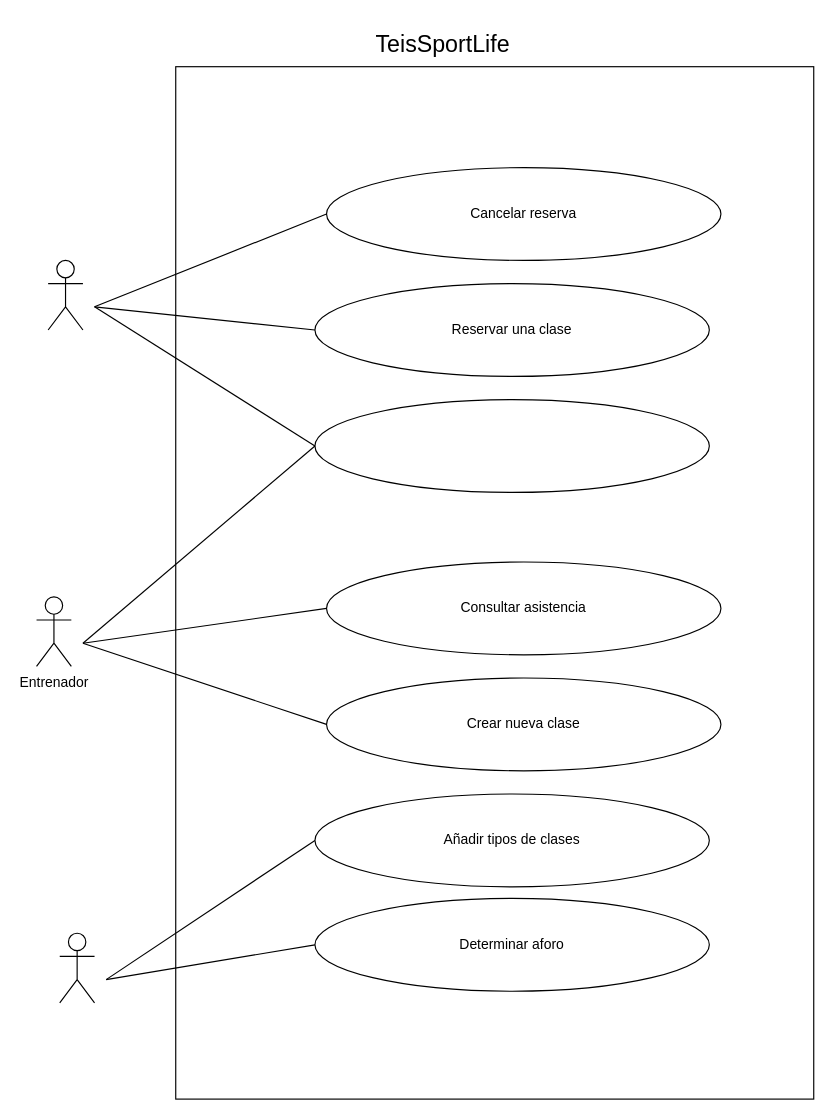
Image size: 834x1119. Some labels were removed from this diagram. Here are the shapes that lost their labels. From the top down, the box of each, then its label:
(47, 259, 83, 330): Socio
(314, 398, 709, 492): Consultar calendario
(59, 932, 95, 1003): Administrador
